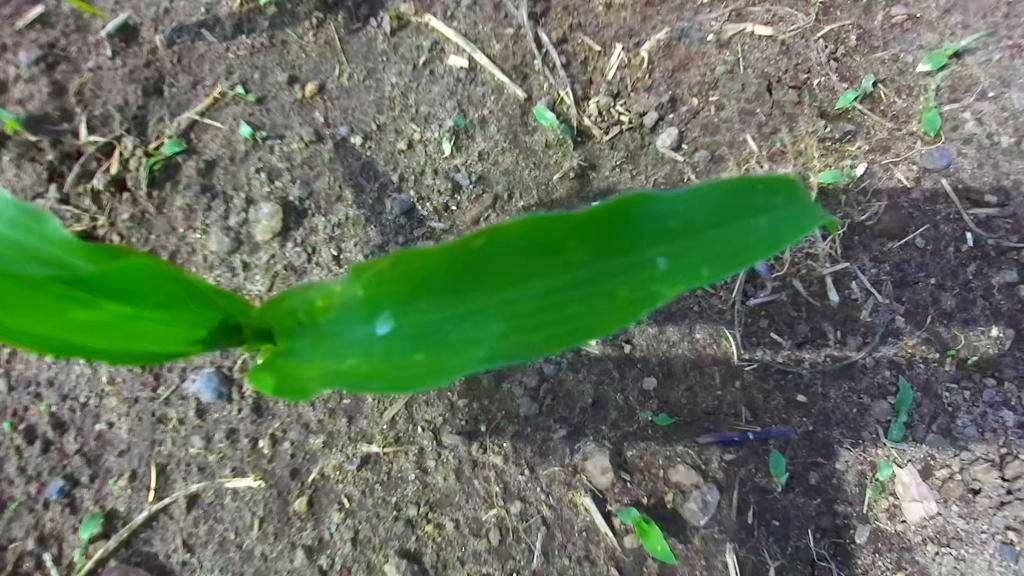BroWeed: (610, 492, 683, 575), (911, 18, 995, 80), (123, 124, 190, 192), (56, 505, 111, 575), (915, 59, 959, 139), (884, 376, 918, 444), (761, 445, 794, 492), (528, 100, 564, 134), (233, 118, 269, 145), (830, 85, 867, 109), (0, 107, 26, 138), (857, 511, 877, 547), (555, 122, 579, 152), (634, 410, 676, 427), (857, 71, 881, 96), (872, 459, 895, 484), (816, 169, 851, 184), (294, 488, 311, 514), (851, 518, 866, 546), (866, 476, 882, 499), (223, 82, 245, 98), (387, 6, 401, 31), (451, 112, 468, 131), (149, 156, 169, 172), (237, 91, 259, 102), (842, 163, 857, 179), (664, 485, 674, 509), (6, 499, 18, 512), (966, 354, 979, 366), (943, 356, 952, 371), (945, 348, 957, 357)
Maize: (0, 174, 843, 400)
